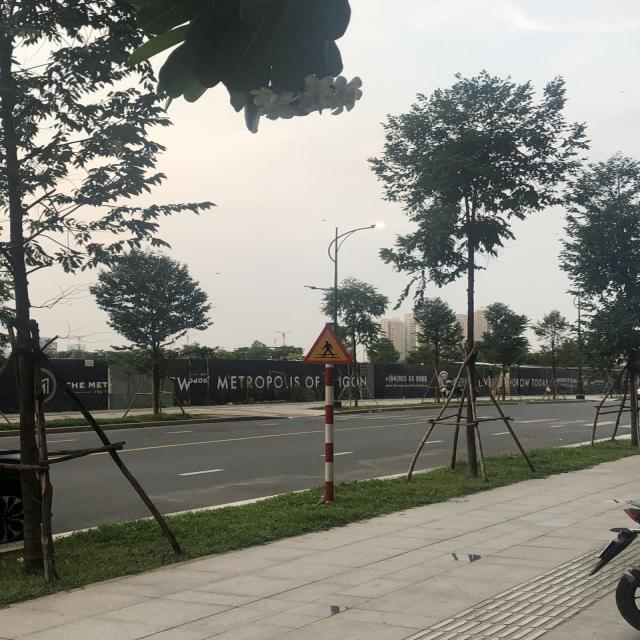Bien bao duong nguoi di bo cat ngang: (298, 323, 358, 367)
